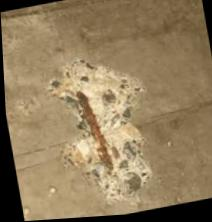damage: (44, 59, 149, 209)
